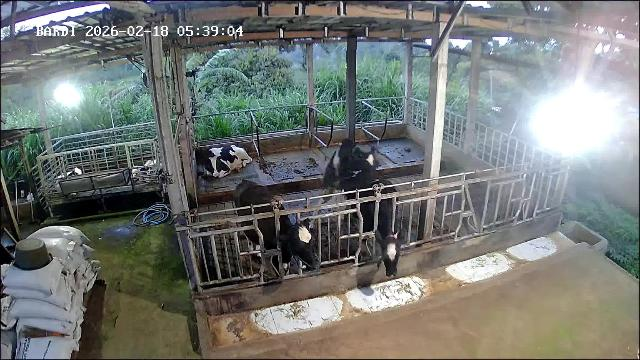mounting: (310, 141, 378, 225)
